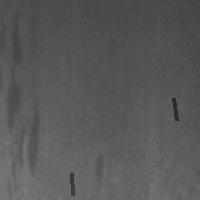inclusion: (2, 9, 42, 188), (91, 150, 115, 194), (171, 96, 178, 122), (69, 171, 74, 197)
